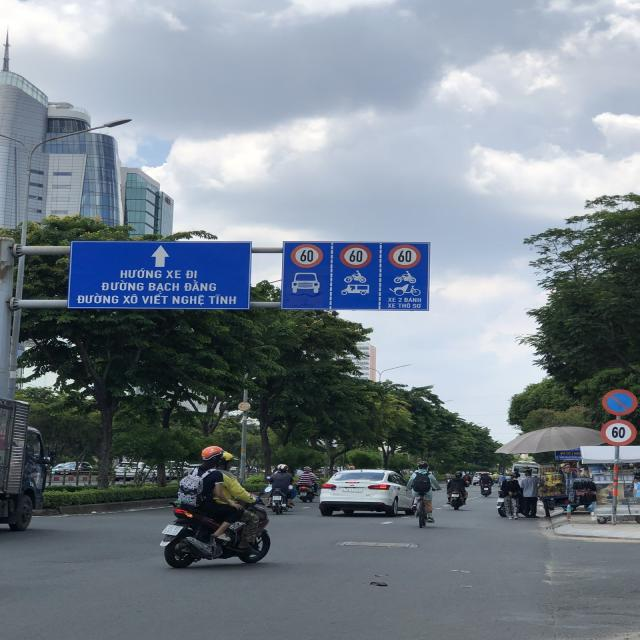Bien bao cam do xe: (600, 387, 640, 417)
Bien bao toc do toi da cho phep: (599, 416, 639, 445), (334, 242, 374, 270), (290, 241, 325, 268), (388, 243, 420, 270)
